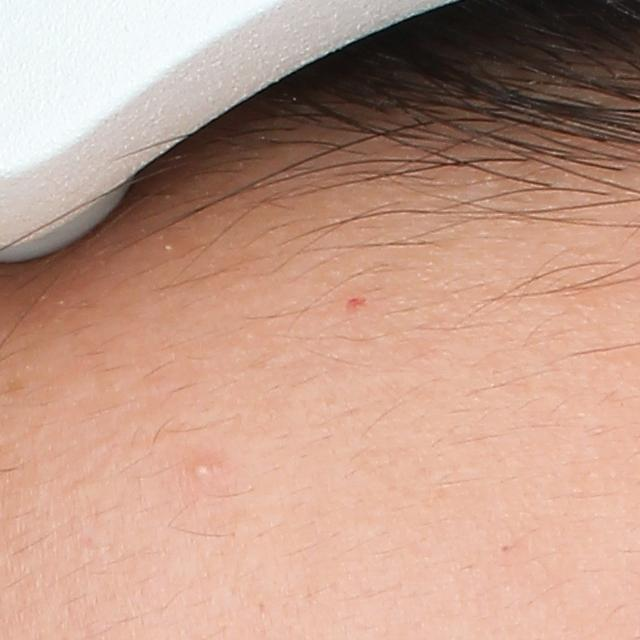comedo: (499, 541, 513, 554)
pustule: (190, 455, 221, 482)
